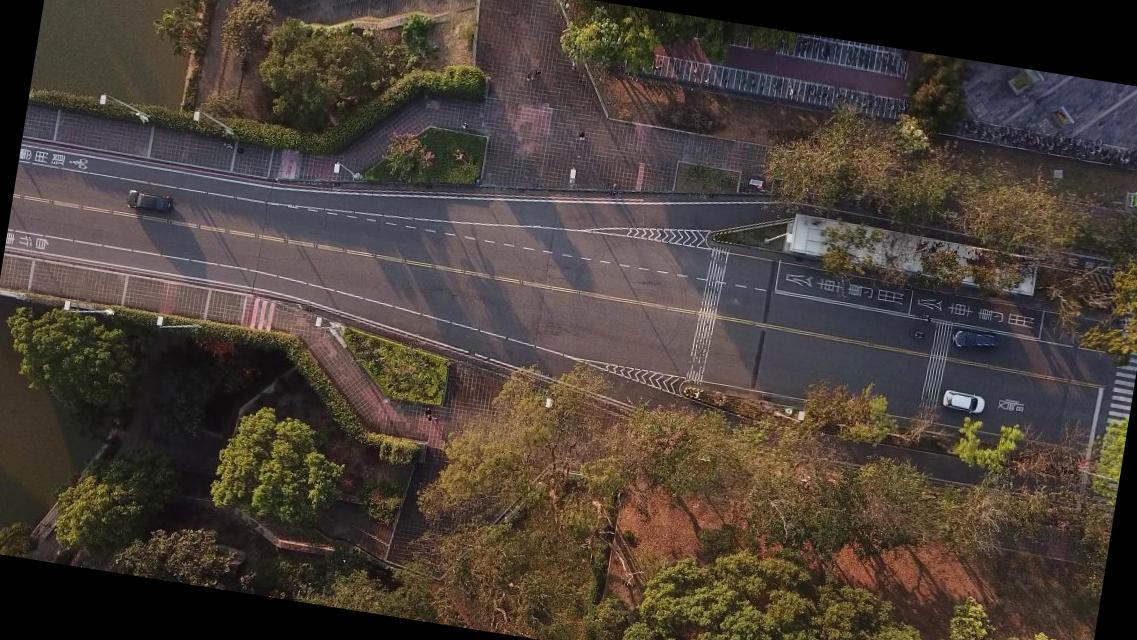vehicle: (126, 188, 173, 214), (951, 326, 997, 352), (941, 389, 986, 415)
